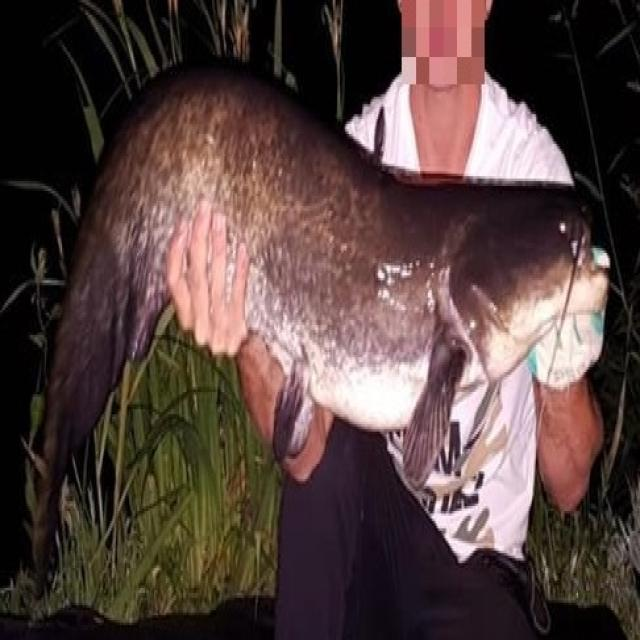Catfish: (26, 35, 616, 629)
